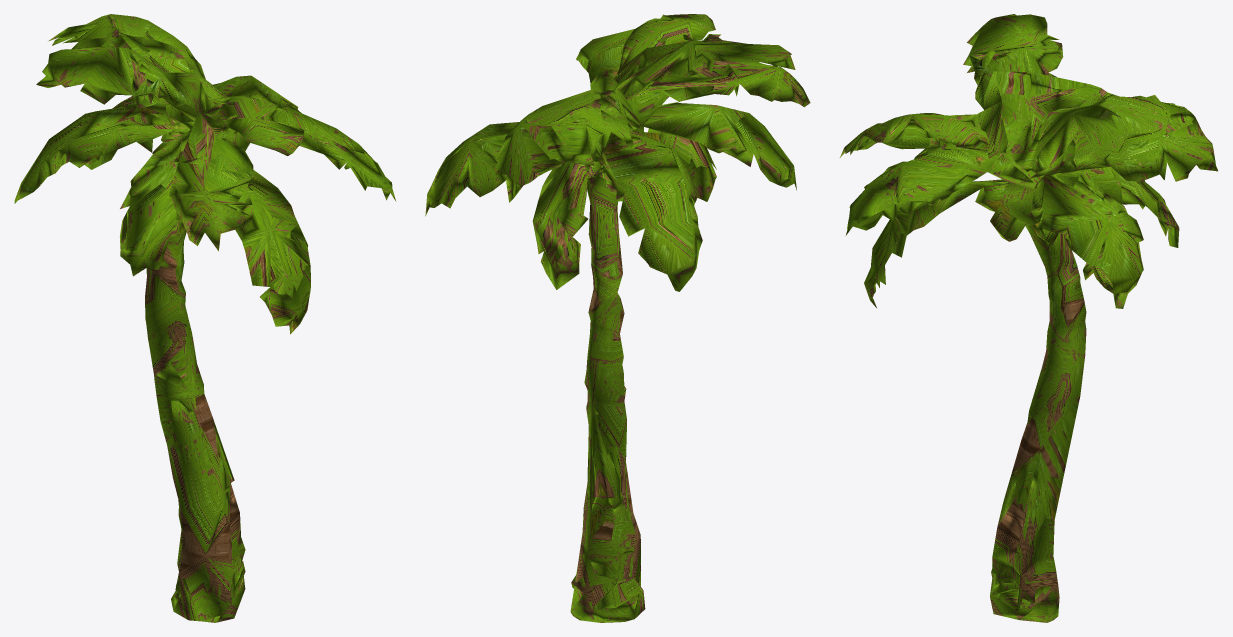
The model's file is coconut.glb.
3 views of the same model, side by side, from view 1: azimuth 30°, elevation 25°; view 2: azimuth 150°, elevation 25°; view 3: azimuth 270°, elevation 25° (orthographic). The views are drawn at different scales.
Size of the model in its own units: 1.04 by 1.87 by 1.21.
Materials: 1 (1 with a texture image).
